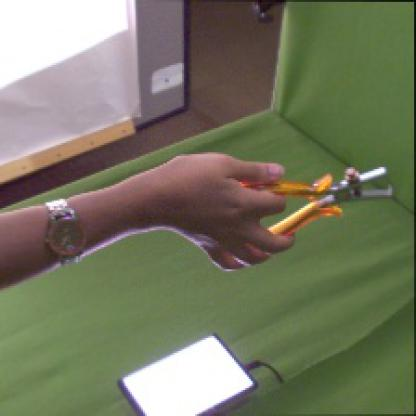Hand: (146, 152, 297, 272)
